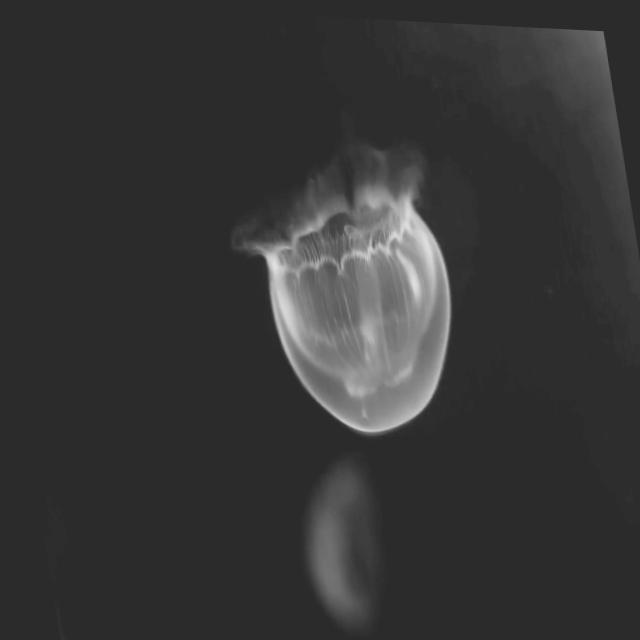Moon-jellyfish: (229, 142, 449, 429)
